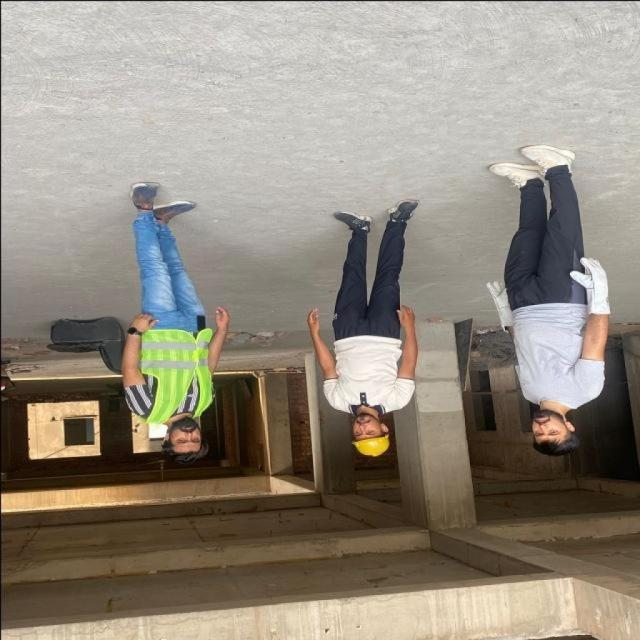Gloves-Detection: (569, 251, 616, 317), (476, 277, 516, 330)
